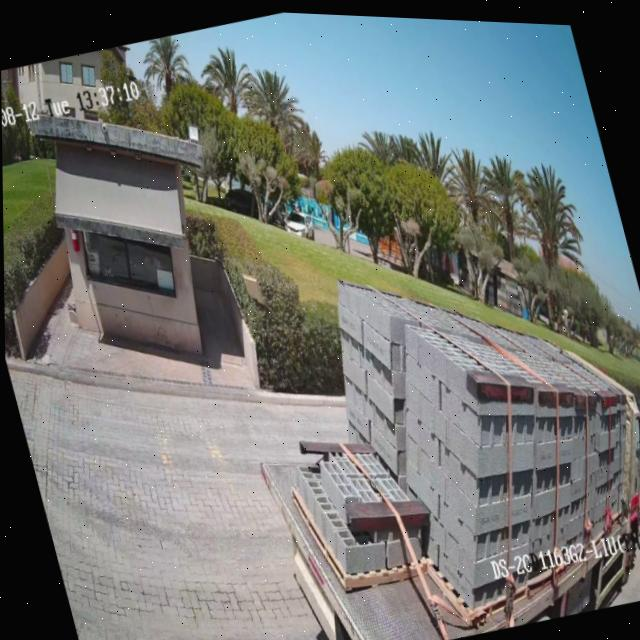bricks: (292, 280, 640, 627)
